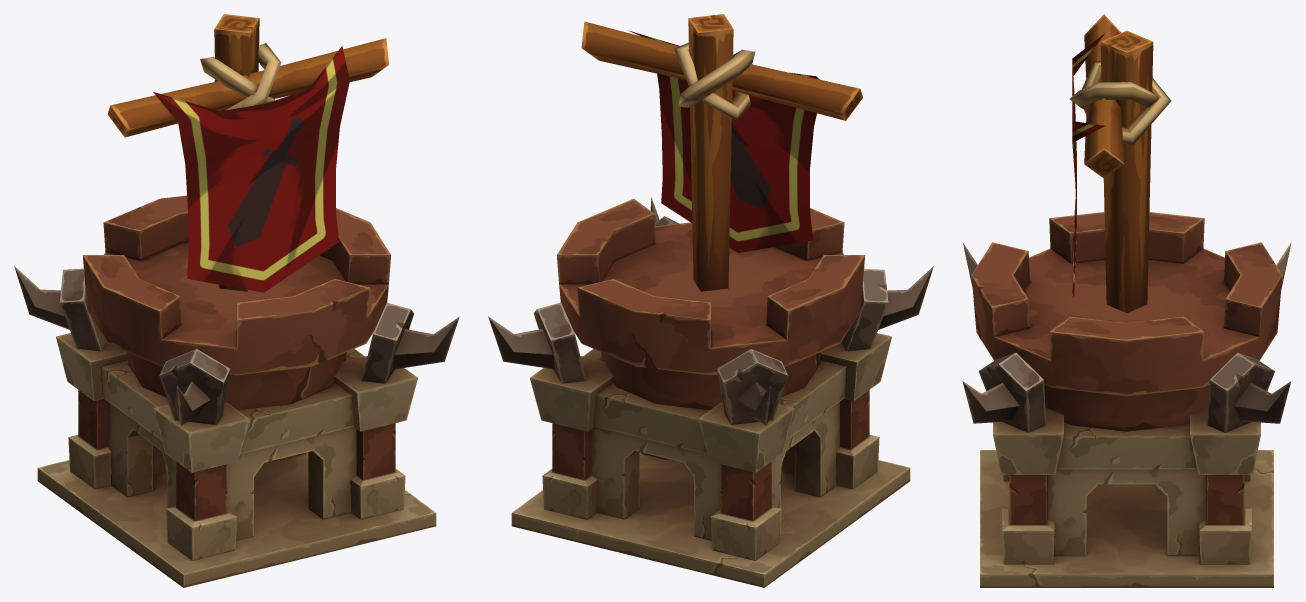
Rendered from building_05.FBX.
3 renders of one model, left to right at view 1: azimuth 30°, elevation 25°; view 2: azimuth 150°, elevation 25°; view 3: azimuth 270°, elevation 25°, orthographic.
Parts seen in each view (by area): view 1: Box005; view 2: Box005; view 3: Box005.
Boxes of the visible parts, x1,y1,x2,y2 form: Box005: (14,14,459,587); Box005: (488,14,933,587); Box005: (962,14,1291,587).
Bounding box in the file's own units: 463 × 751 × 463.
